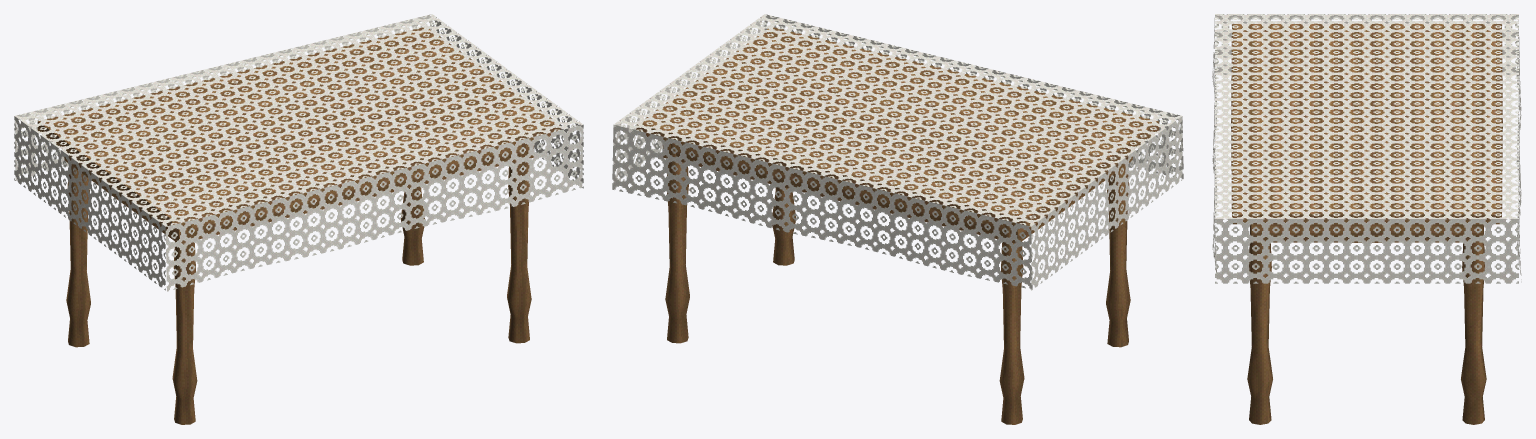
The model's file is dining_table.glb.
3 views of the same model, side by side, from view 1: azimuth 30°, elevation 25°; view 2: azimuth 150°, elevation 25°; view 3: azimuth 270°, elevation 25° (orthographic).
Visible parts, largest first — view 1: cloth_top, cloth_drop (×4), top, leg (×4), apron; view 2: cloth_top, cloth_drop (×4), top, leg (×4), apron; view 3: cloth_top, top, cloth_drop (×4), leg (×2), apron.
Boxes of the visible parts, x1=… form: cloth_top: x1=15, y1=14, x2=582, y2=226; cloth_drop (×4): x1=14, y1=14, x2=583, y2=291; top: x1=37, y1=27, x2=560, y2=226; leg (×4): x1=66, y1=143, x2=531, y2=424; apron: x1=64, y1=144, x2=534, y2=243; cloth_top: x1=614, y1=14, x2=1181, y2=226; cloth_drop (×4): x1=612, y1=14, x2=1183, y2=290; top: x1=636, y1=27, x2=1159, y2=226; leg (×4): x1=665, y1=143, x2=1130, y2=424; apron: x1=662, y1=143, x2=1132, y2=243; cloth_top: x1=1215, y1=14, x2=1518, y2=218; top: x1=1231, y1=23, x2=1502, y2=224; cloth_drop (×4): x1=1212, y1=14, x2=1521, y2=283; leg (×2): x1=1247, y1=224, x2=1486, y2=424; apron: x1=1251, y1=224, x2=1482, y2=242.
Size of the model in its own units: 1.5 by 0.756 by 0.9558.
2 materials, 2 textured.
